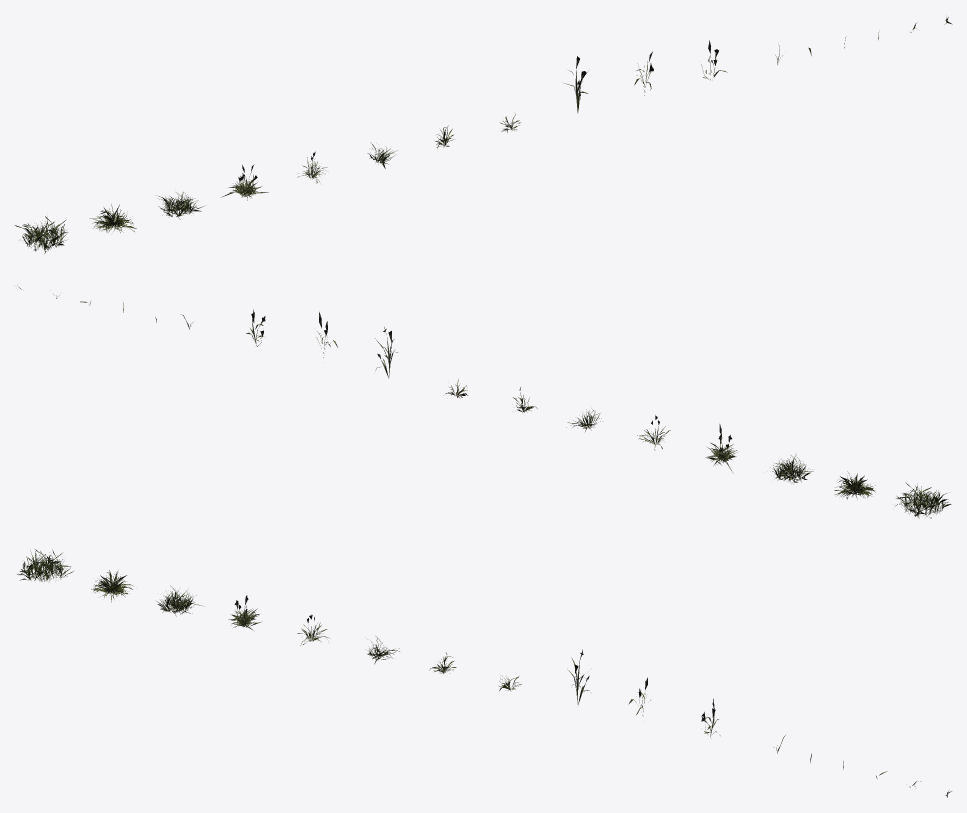
Rendered from grass_medium_01_1k_lo.glb.
3 renders of one model, top to bottom at view 1: azimuth 30°, elevation 25°; view 2: azimuth 150°, elevation 25°; view 3: azimuth 330°, elevation 25°, orthographic.
Visible parts, largest first — view 1: grass_medium_01_large_a_LOD0, grass_medium_01_large_b_LOD0, grass_medium_01_large_c_LOD0; view 2: grass_medium_01_large_a_LOD0, grass_medium_01_large_c_LOD0, grass_medium_01_large_b_LOD0; view 3: grass_medium_01_large_a_LOD0, grass_medium_01_large_c_LOD0, grass_medium_01_large_b_LOD0.
Part boxes in pixels (x1,y1,x2,y2): grass_medium_01_large_a_LOD0: [15, 216, 68, 253]; grass_medium_01_large_b_LOD0: [90, 204, 136, 232]; grass_medium_01_large_c_LOD0: [157, 192, 203, 219]; grass_medium_01_large_a_LOD0: [895, 483, 951, 518]; grass_medium_01_large_c_LOD0: [772, 454, 813, 484]; grass_medium_01_large_b_LOD0: [834, 471, 875, 499]; grass_medium_01_large_a_LOD0: [17, 549, 73, 581]; grass_medium_01_large_c_LOD0: [156, 585, 203, 616]; grass_medium_01_large_b_LOD0: [91, 570, 132, 602].
Size of the model in its own units: 5.59 by 0.3389 by 0.3266.
Materials: 1 (1 with a texture image).
